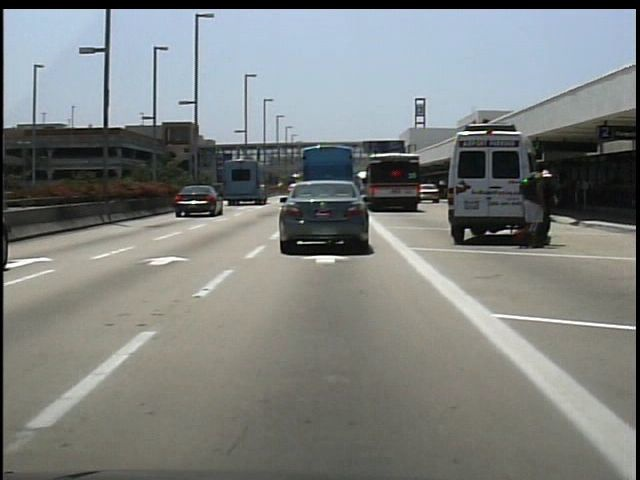person: (520, 161, 552, 248), (541, 170, 558, 246)
